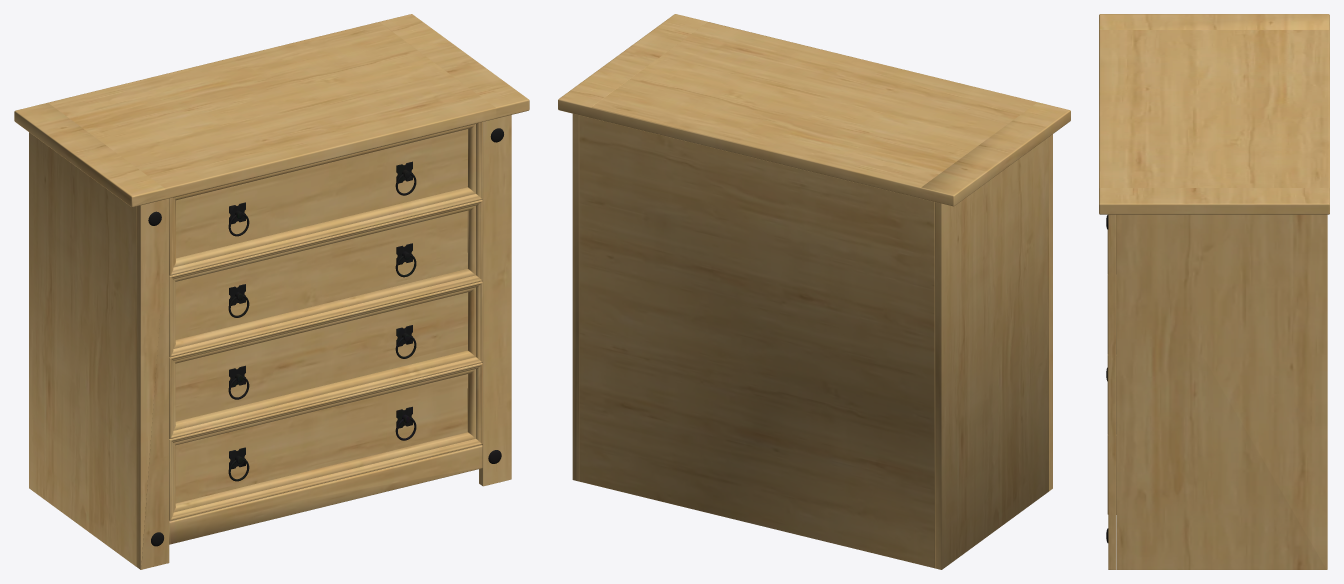
The model's file is B01MG6BPC6.glb.
3 renders of one model, left to right at view 1: azimuth 30°, elevation 25°; view 2: azimuth 150°, elevation 25°; view 3: azimuth 270°, elevation 25°, orthographic. The views are drawn at different scales.
Visible parts, largest first — view 1: B01MG6BPC6; view 2: B01MG6BPC6; view 3: B01MG6BPC6.
Boxes of the visible parts, box(x1,y1,x2,y2) form: B01MG6BPC6: box(14, 14, 529, 569); B01MG6BPC6: box(558, 14, 1070, 569); B01MG6BPC6: box(1099, 14, 1329, 569).
Bounding box in the file's own units: 0.8 × 0.73 × 0.41.
Materials: 1 (1 with a texture image).
